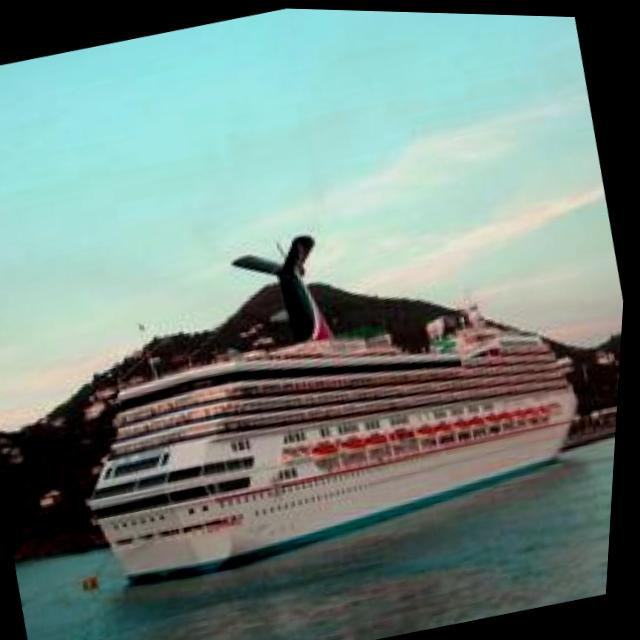ship2: (95, 230, 583, 588)
